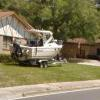Boat: (11, 25, 81, 71)
